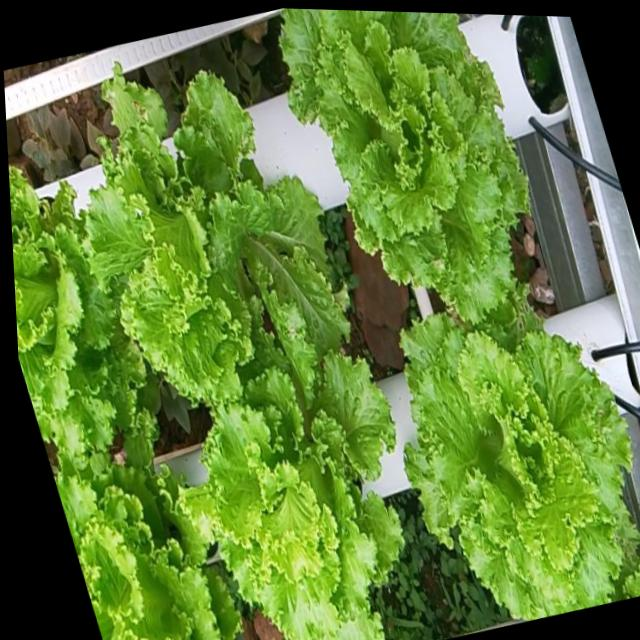Mature: (78, 71, 345, 414), (277, 8, 526, 327), (397, 312, 640, 623), (186, 342, 400, 640), (9, 167, 140, 450), (52, 455, 237, 640)
